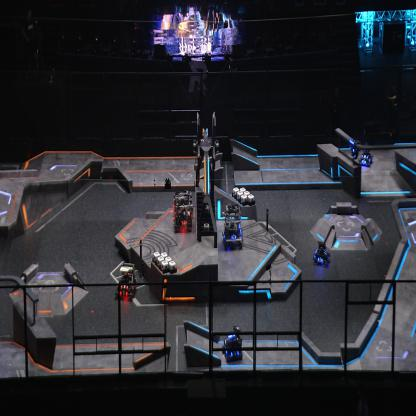car: (172, 188, 194, 232), (222, 203, 242, 250), (221, 326, 243, 364), (115, 262, 136, 300), (313, 240, 330, 268), (358, 148, 374, 168)
